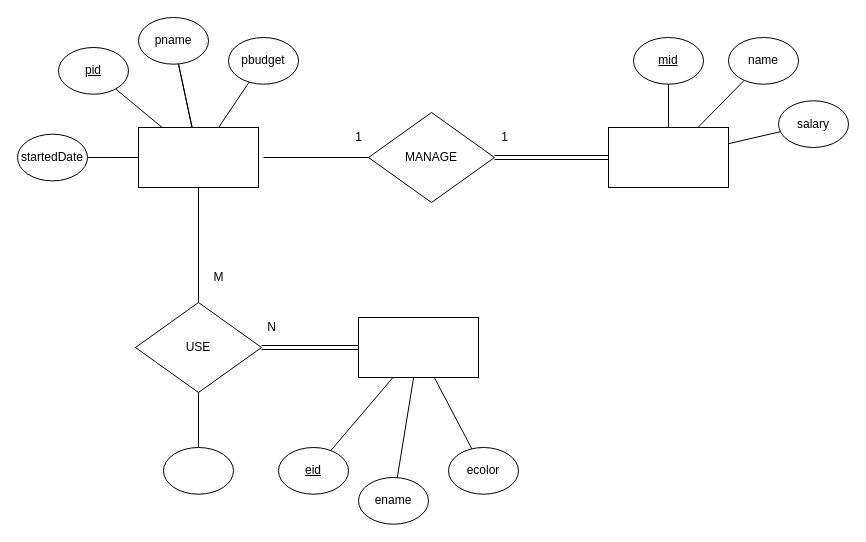
The diagram is 866 pixels wide and 542 high, and some of its shapes have lost their labels. The centre of each missing label's shape, as x and y in pixels:
"EQUIPMENT" belongs at (x=418, y=347).
"MANAGER" belongs at (x=668, y=157).
"PROJECT" belongs at (x=198, y=157).
"quantity" belongs at (x=198, y=470).
